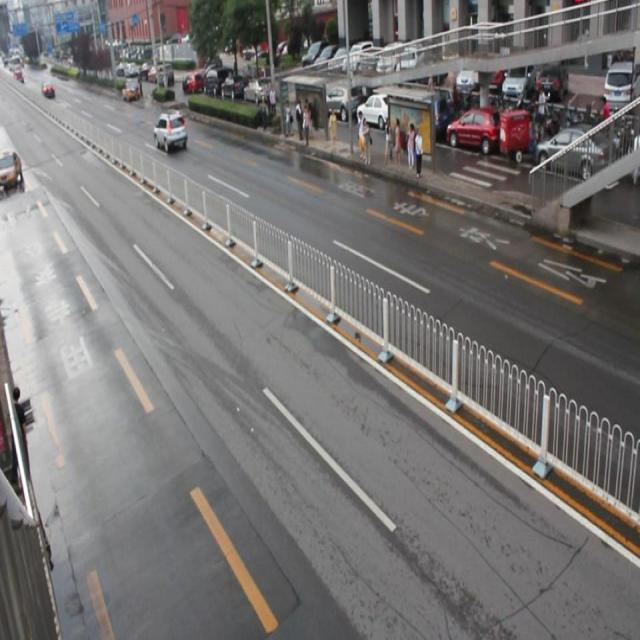car: (153, 110, 187, 152)
